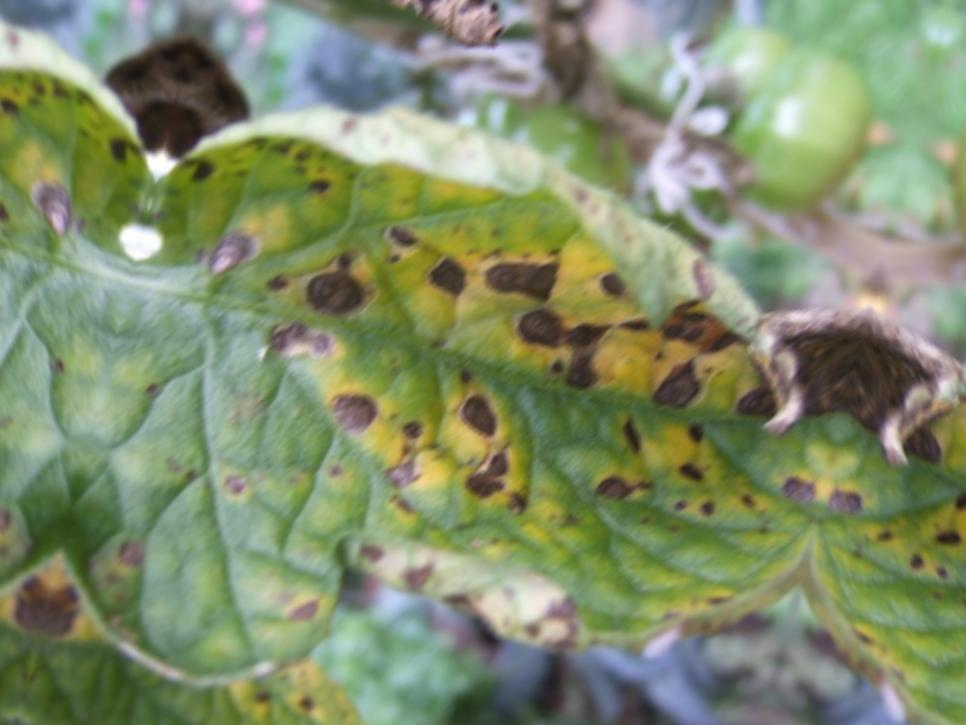Tomato Early blight leaf: (46, 95, 868, 725)
